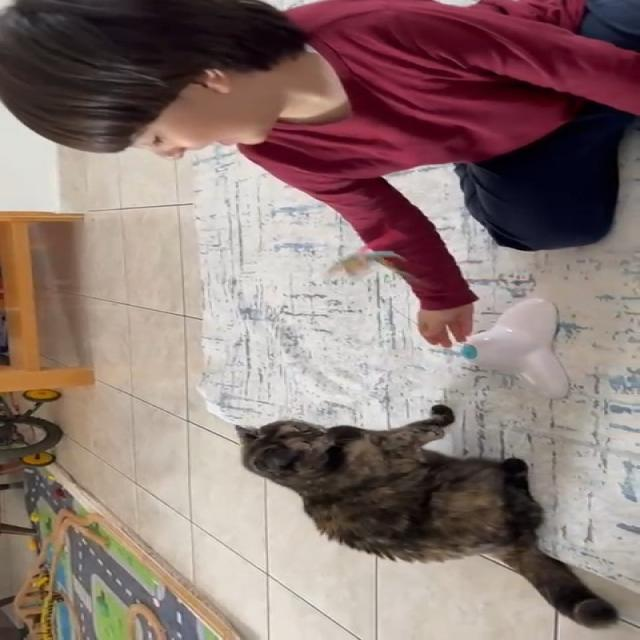authorized: (233, 404, 619, 628)
